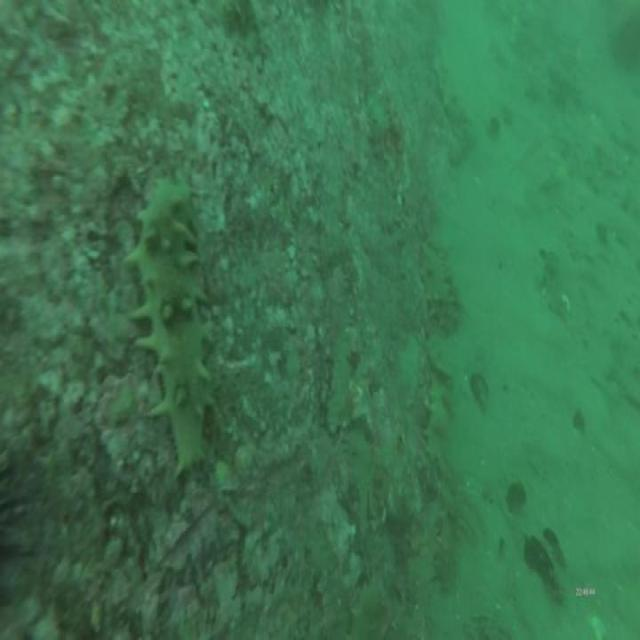echinus: (608, 13, 640, 76)
holothurian: (127, 172, 220, 477), (418, 457, 486, 548), (415, 229, 464, 337), (320, 321, 356, 442), (424, 348, 454, 468), (349, 569, 393, 640), (432, 504, 456, 596)
